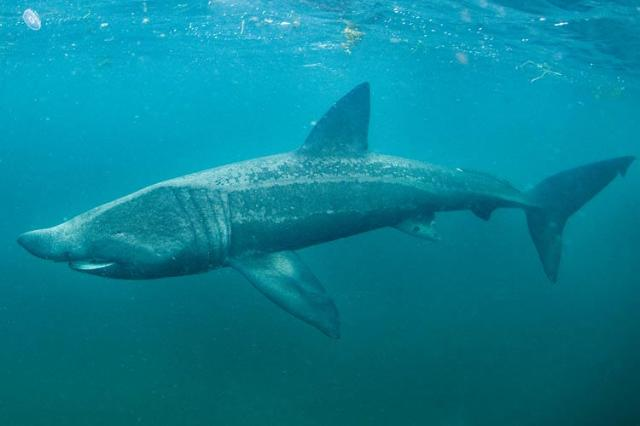Mulut: (61, 246, 120, 300)
Sirip Anal: (469, 193, 503, 235)
Sirip Dada: (219, 232, 357, 350)
Sirip Ekor: (522, 142, 640, 290)
Sirip Perut: (389, 198, 451, 252)
Sirip Punggung: (294, 70, 386, 178)
